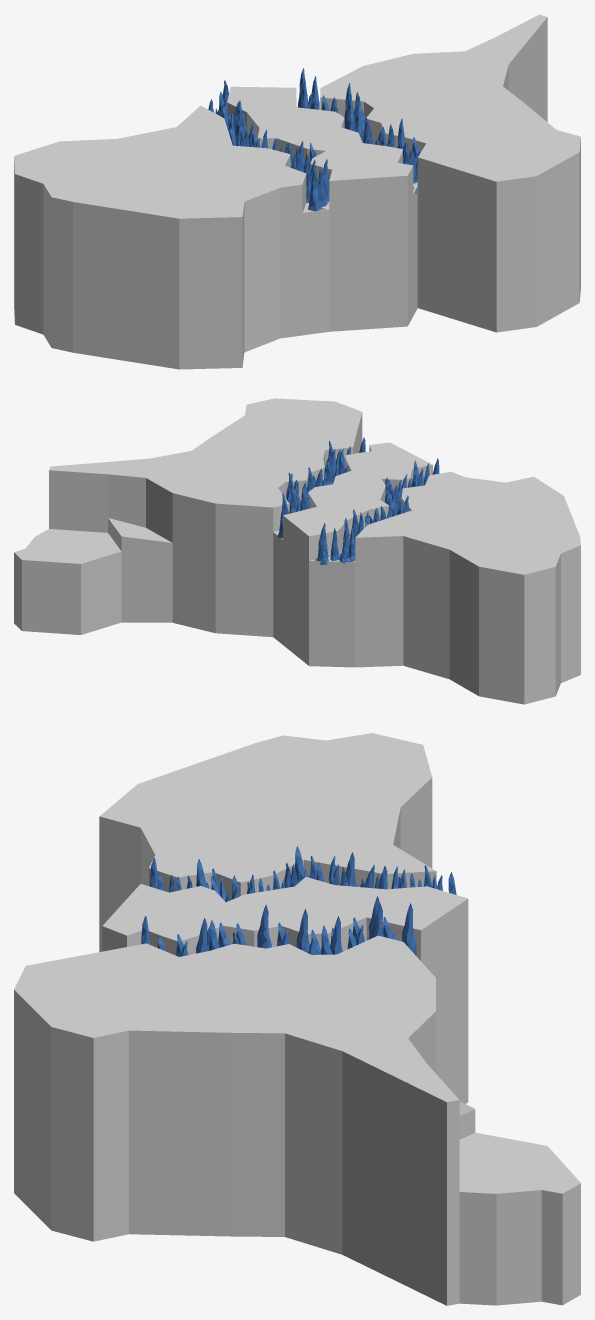
Rendered from banquiseStart 1.fbx.
3 views of the same model, one above another, from view 1: azimuth 30°, elevation 25°; view 2: azimuth 150°, elevation 25°; view 3: azimuth 270°, elevation 25° (orthographic). The views are drawn at different scales.
Visible parts, largest first — view 1: Plane.001, Stalactite01.001, Stalactite01.003; view 2: Plane.001, Stalactite01.001, Stalactite01.003; view 3: Plane.001, Stalactite01.003, Stalactite01.001.
Part boxes in pixels (<box>): Plane.001: <box>14,14,580,369</box>; Stalactite01.001: <box>208,80,329,212</box>; Stalactite01.003: <box>297,68,420,193</box>; Plane.001: <box>14,398,580,704</box>; Stalactite01.001: <box>312,458,439,564</box>; Stalactite01.003: <box>278,437,365,538</box>; Plane.001: <box>14,733,580,1305</box>; Stalactite01.003: <box>141,896,416,956</box>; Stalactite01.001: <box>150,846,456,901</box>.
Size of the model in its own units: 412 by 121 by 268.
